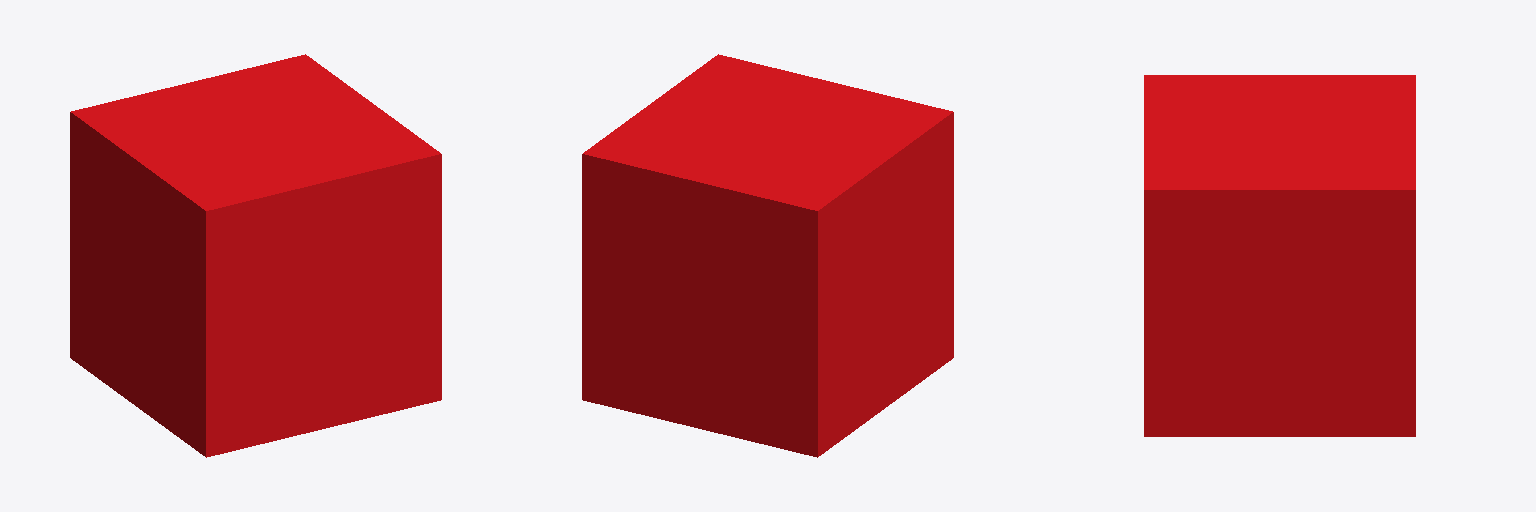
File: cube_big_mesh.obj
3 renders of one model, left to right at view 1: azimuth 30°, elevation 25°; view 2: azimuth 150°, elevation 25°; view 3: azimuth 270°, elevation 25°, orthographic.
Visible parts, largest first — view 1: Object.1; view 2: Object.1; view 3: Object.1.
Boxes of the visible parts, x1,y1,x2,y2 form: Object.1: [70, 54, 441, 457]; Object.1: [582, 54, 953, 457]; Object.1: [1144, 75, 1415, 436].
Size of the model in its own units: 39.87 by 39.87 by 39.88.